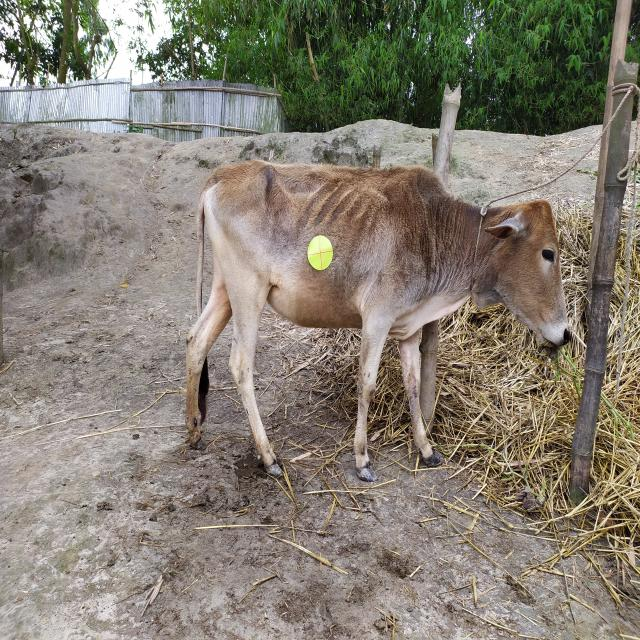badan_sapi: (198, 163, 460, 339)
sapi: (174, 146, 581, 495)
